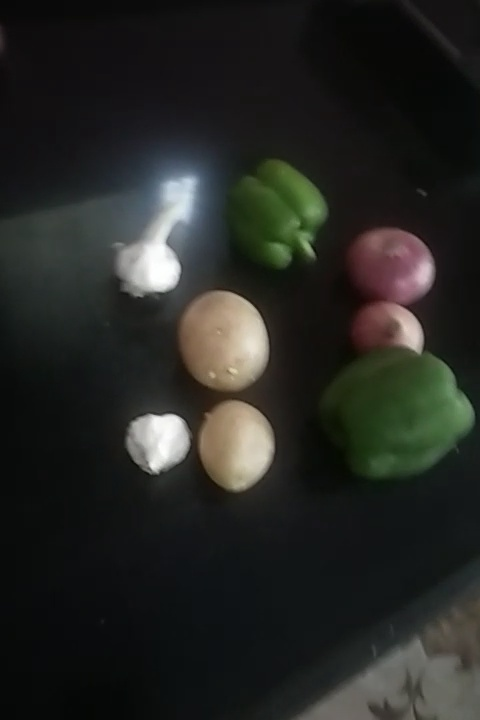capsicum: (330, 339, 476, 482), (229, 167, 335, 278)
garlic: (114, 201, 191, 291), (119, 405, 202, 479)
onion: (349, 224, 443, 306), (340, 302, 423, 364)
potato: (172, 280, 272, 396), (191, 400, 285, 496)
